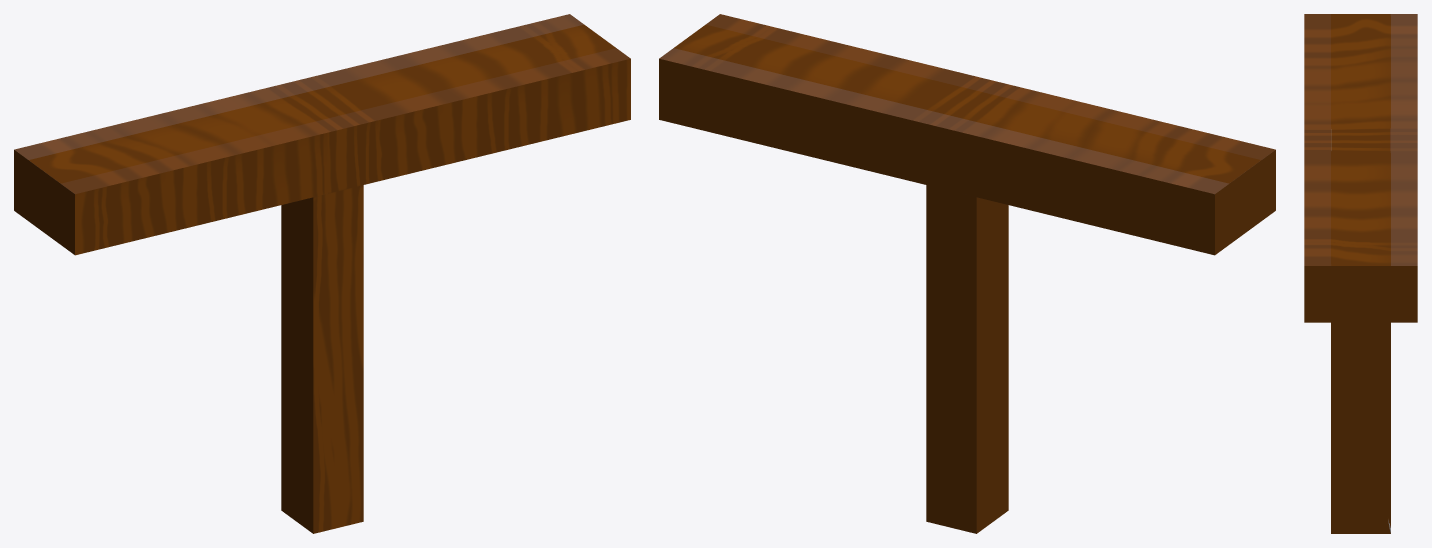
File: Level2-3-BottomPart.fbx
The picture shows the model from 3 angles, left to right: view 1: azimuth 30°, elevation 25°; view 2: azimuth 150°, elevation 25°; view 3: azimuth 270°, elevation 25°; orthographic projection. The views are drawn at different scales.
Parts seen in each view (by area): view 1: Cube.010; view 2: Cube.010; view 3: Cube.010.
Boxes of the visible parts, <box> form: Cube.010: <box>14,14,630,533</box>; Cube.010: <box>659,14,1275,533</box>; Cube.010: <box>1304,14,1417,533</box>.
Bounding box in the file's own units: 1242 × 879 × 236.
